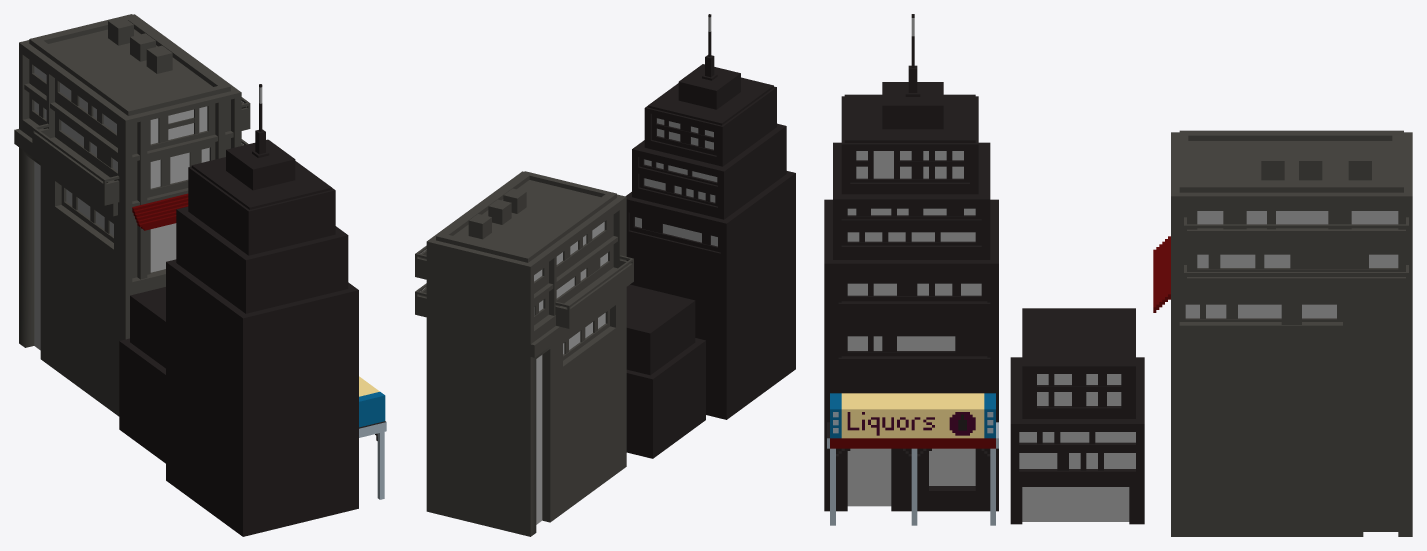
The model's file is SideBuildings3.fbx.
3 renders of one model, left to right at view 1: azimuth 30°, elevation 25°; view 2: azimuth 150°, elevation 25°; view 3: azimuth 270°, elevation 25°, orthographic. The views are drawn at different scales.
Visible parts, largest first — view 1: SideBuildings3_001; view 2: SideBuildings3_001; view 3: SideBuildings3_001.
Boxes of the visible parts, box(x1,y1,x2,y2) form: SideBuildings3_001: box(14, 14, 386, 536); SideBuildings3_001: box(415, 14, 795, 536); SideBuildings3_001: box(824, 14, 1412, 536).
Size of the model in its own units: 7.46 by 17.8 by 20.2.
